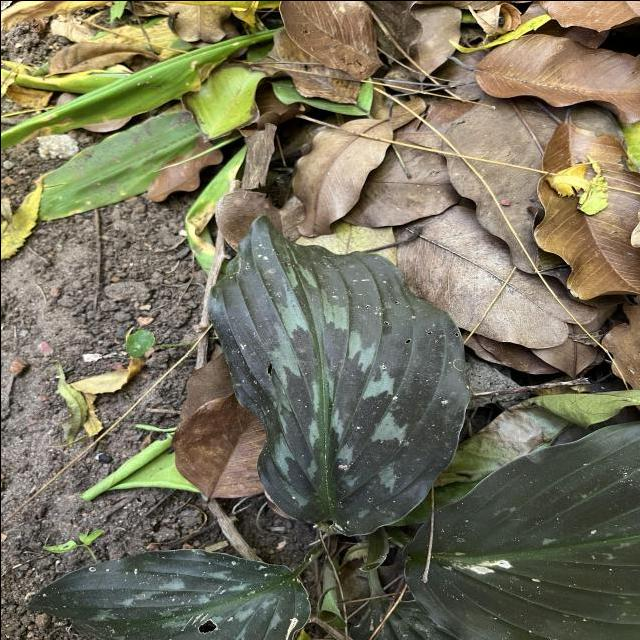Kaempferia galanga linn: (202, 210, 473, 538)
